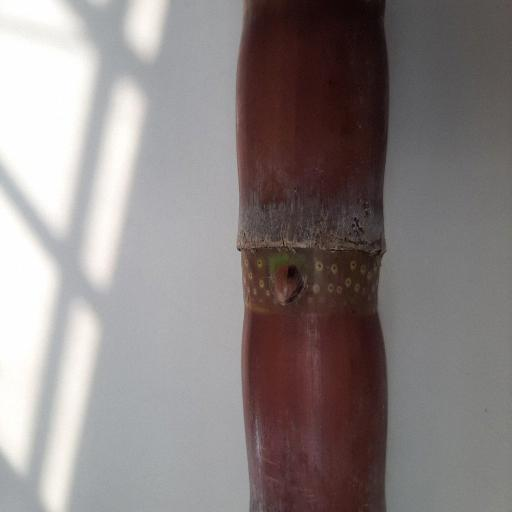Bud: (267, 261, 305, 306)
